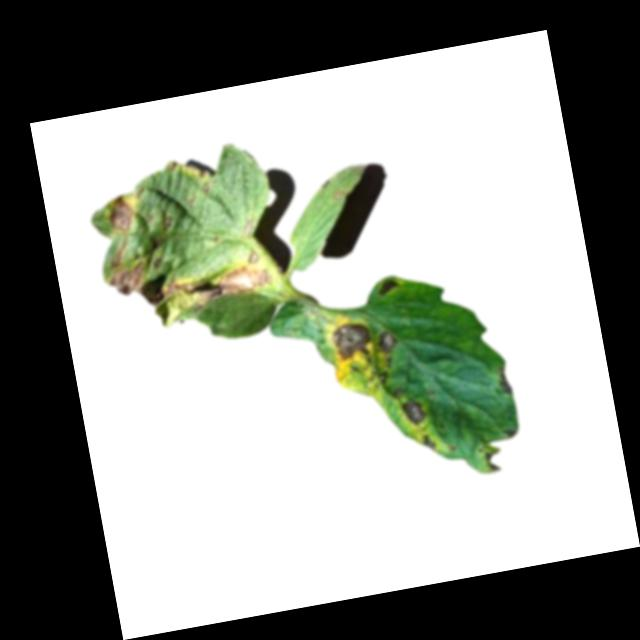Early_blight: (159, 264, 275, 314), (101, 238, 147, 298), (331, 320, 373, 362), (104, 192, 138, 237), (398, 396, 427, 429), (494, 368, 515, 397), (378, 330, 398, 356), (377, 279, 402, 299), (484, 450, 504, 475), (420, 431, 437, 454), (503, 426, 518, 442), (245, 251, 261, 265), (162, 217, 174, 232)
